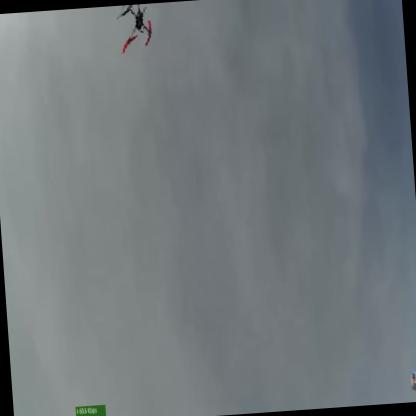drone: (108, 4, 160, 63)
